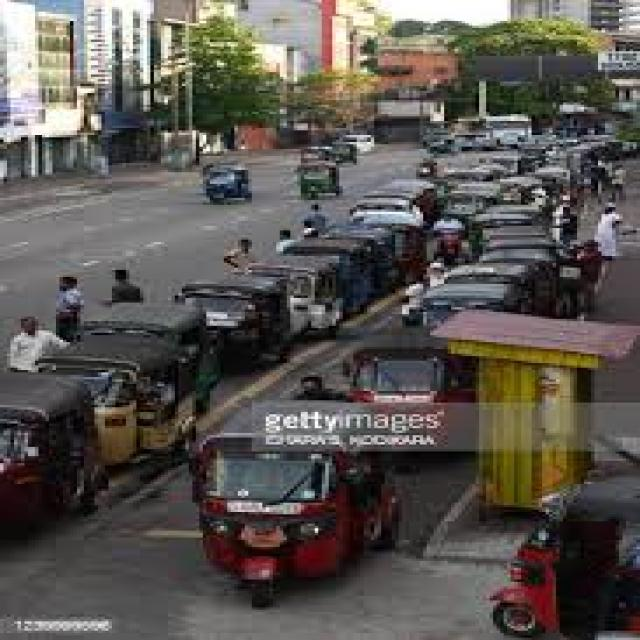person: (7, 317, 66, 372), (56, 277, 80, 342), (434, 219, 462, 265), (294, 375, 343, 400), (595, 207, 619, 258), (224, 237, 252, 275), (112, 270, 140, 303), (577, 242, 598, 284), (553, 205, 574, 244), (301, 205, 325, 237), (276, 230, 294, 254), (280, 230, 287, 240)
three wheeler: (192, 400, 469, 607), (490, 479, 637, 640), (38, 335, 192, 465), (3, 372, 101, 524), (84, 303, 217, 412), (178, 275, 287, 372), (346, 337, 472, 400), (283, 240, 371, 326), (245, 256, 339, 335), (350, 209, 423, 282), (479, 249, 556, 317), (322, 223, 392, 289), (423, 284, 518, 326), (448, 263, 525, 312), (206, 168, 248, 202), (301, 161, 336, 200), (332, 144, 353, 165)
